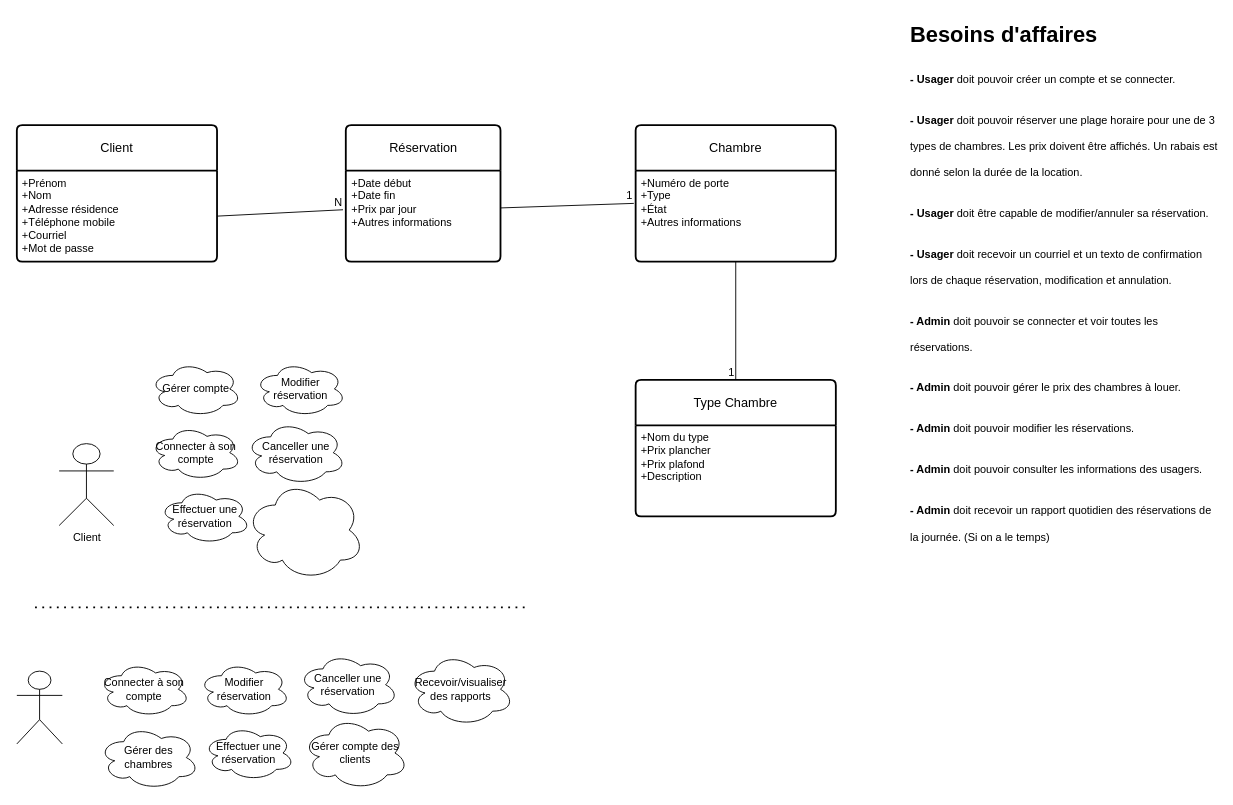
This 1233x805 diagram has some shape labels left out. The shapes that lost their labels are listed below. From the top down, each one's centre as x and y in pixels, then its label:
the point at 304,529: Recevoir des confirmations et des reminders
the point at 39,707: Admin
